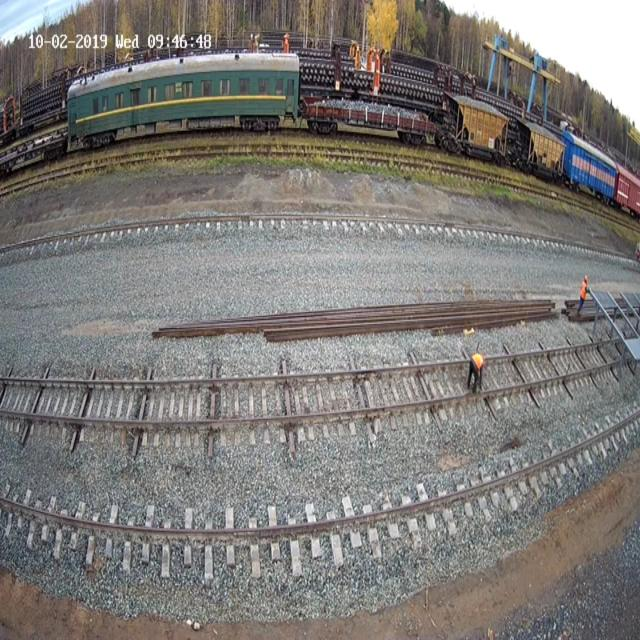Person: (467, 352, 485, 393), (577, 275, 588, 316)
